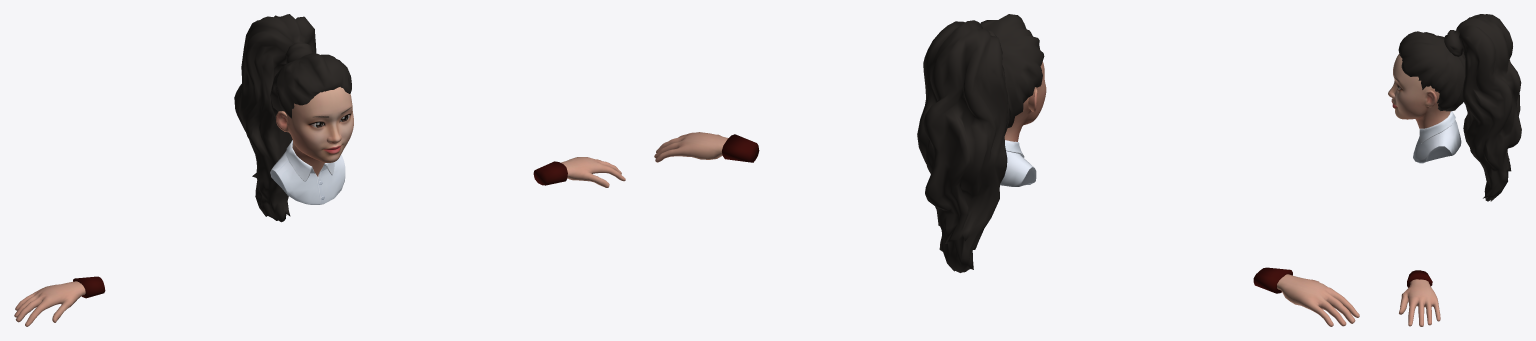
Rendered from 9af90f50-d9c5-427f-bb23-a95768bfd939.fbx.
The picture shows the model from 3 angles, left to right: view 1: azimuth 30°, elevation 25°; view 2: azimuth 150°, elevation 25°; view 3: azimuth 270°, elevation 25°; orthographic projection. The views are drawn at different scales.
Parts seen in each view (by area): view 1: Wolf3D_Avatar; view 2: Wolf3D_Avatar; view 3: Wolf3D_Avatar.
Part boxes in pixels (left/top/right/bottom): Wolf3D_Avatar: left=14, top=14, right=625, bottom=326; Wolf3D_Avatar: left=654, top=14, right=1359, bottom=326; Wolf3D_Avatar: left=1388, top=14, right=1521, bottom=326.
Bounding box in the file's own units: 1.65 × 0.5525 × 0.3639.
1 material, 1 textured.
